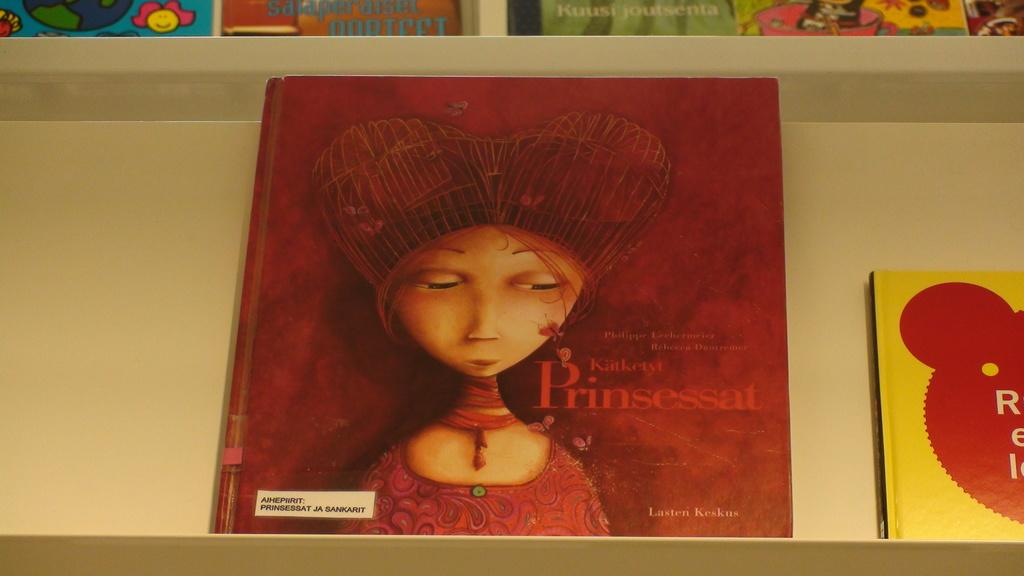Sem Máscara: (384, 221, 578, 374)
